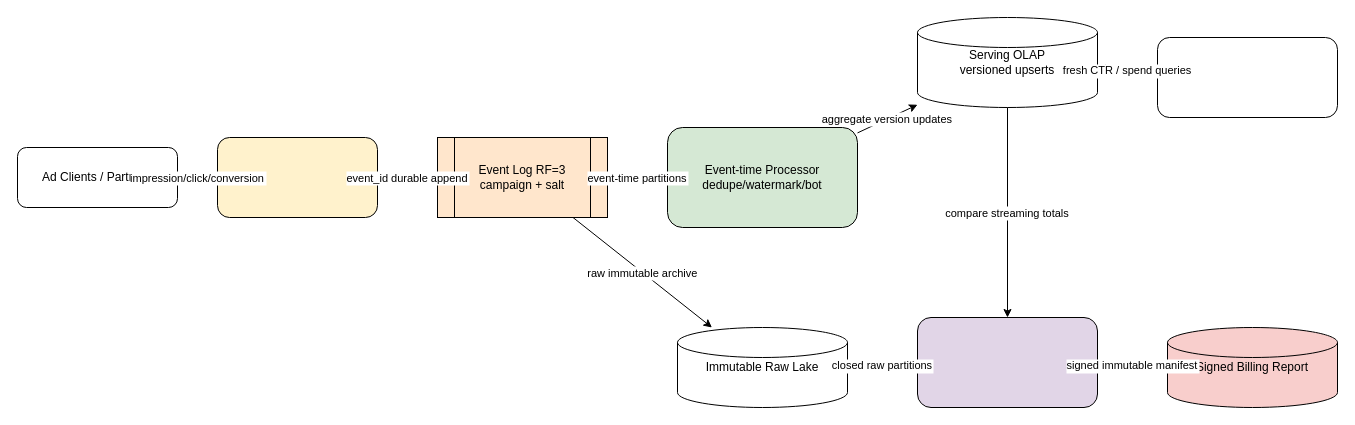
Some shapes in this 1355 by 425 pixel diagram are drawn without their labels. The shapes that lost their labels are listed below. From the top down, each one's centre as x and y in pixels, then its label:
the point at 1247,77: Realtime Dashboard provisional/final
the point at 297,177: Edge Collector schema + privacy
the point at 1007,362: 48h Final Batch versioned rules
